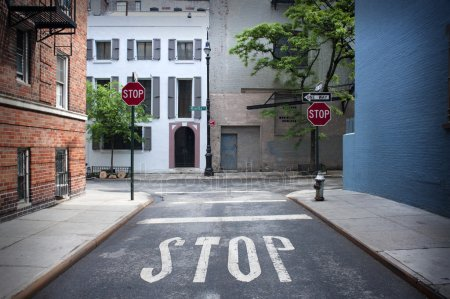stopsign: (120, 80, 147, 106), (306, 100, 332, 126)
